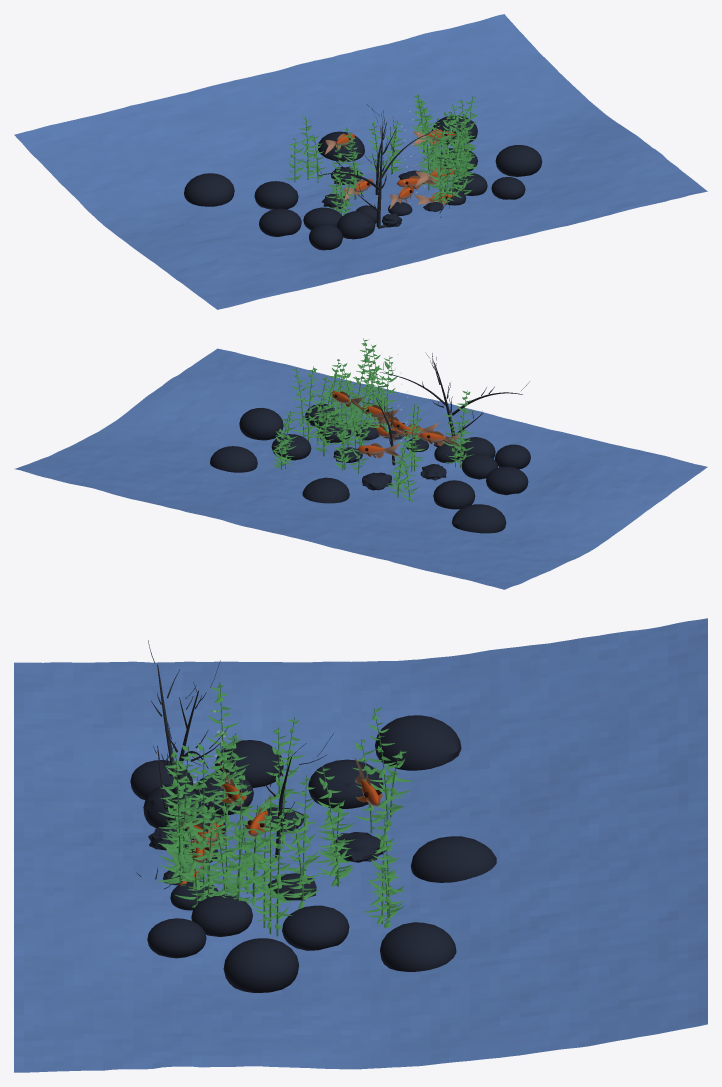
The picture shows the model from 3 angles, top to bottom: view 1: azimuth 30°, elevation 25°; view 2: azimuth 150°, elevation 25°; view 3: azimuth 270°, elevation 25°; orthographic projection. The views are drawn at different scales.
Parts seen in each view (by area): view 1: Sand.001, Rocks.001, Plants.001, Driftwood.001; view 2: Sand.001, Rocks.001, Plants.001, Driftwood.001, Fish7_far.001; view 3: Sand.001, Rocks.001, Plants.001, Driftwood.001.
Boxes of the visible parts, x1,y1,x2,y2 form: Sand.001: [14, 14, 707, 309]; Rocks.001: [184, 115, 542, 250]; Plants.001: [285, 94, 478, 215]; Driftwood.001: [317, 104, 450, 228]; Sand.001: [15, 348, 707, 589]; Rocks.001: [210, 403, 530, 533]; Plants.001: [270, 338, 474, 502]; Driftwood.001: [360, 352, 529, 465]; Fish7_far.001: [357, 443, 400, 458]; Sand.001: [14, 618, 707, 1072]; Rocks.001: [130, 715, 496, 992]; Plants.001: [156, 682, 412, 936]; Driftwood.001: [136, 640, 333, 889].
Size of the model in its own units: 16 by 3.71 by 11.5.
